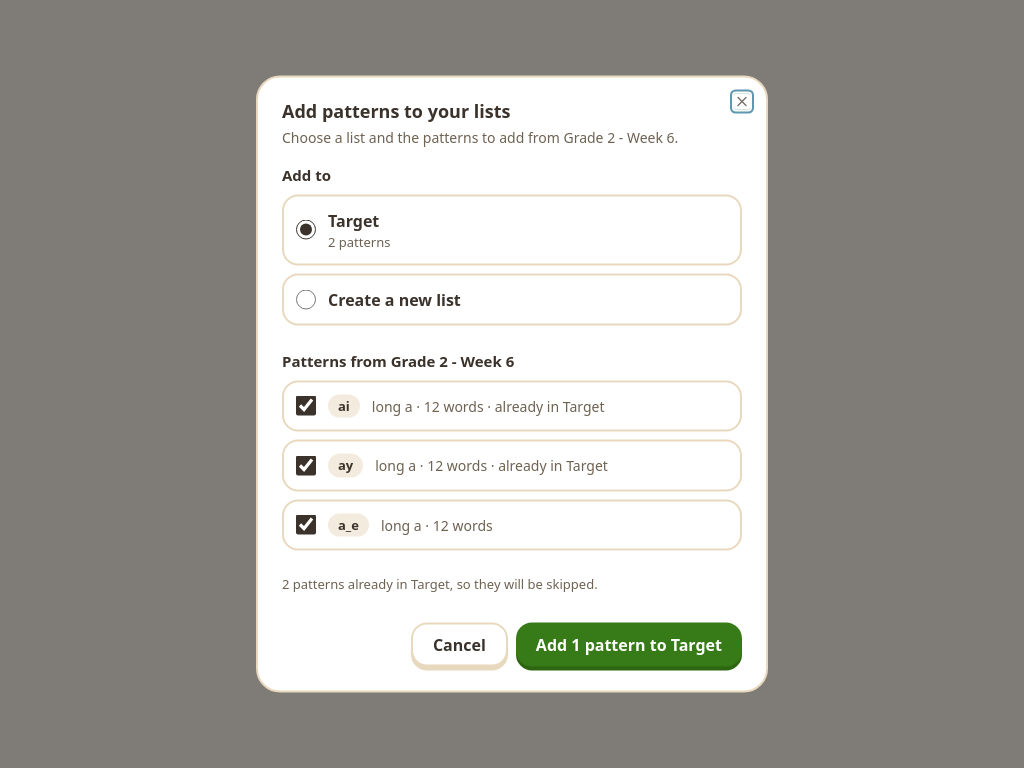
Scenario: PullPatternsModal › names multiple duplicates and skipped patterns with plurals
Expected: the text "Target" is shown, [328, 209, 379, 231]
Expected: the message shows "2 patterns already in Target, so they will be skipped", [282, 574, 598, 592]
Click the button "Add 1 pattern to Target" at (629, 644), box [516, 622, 742, 666]
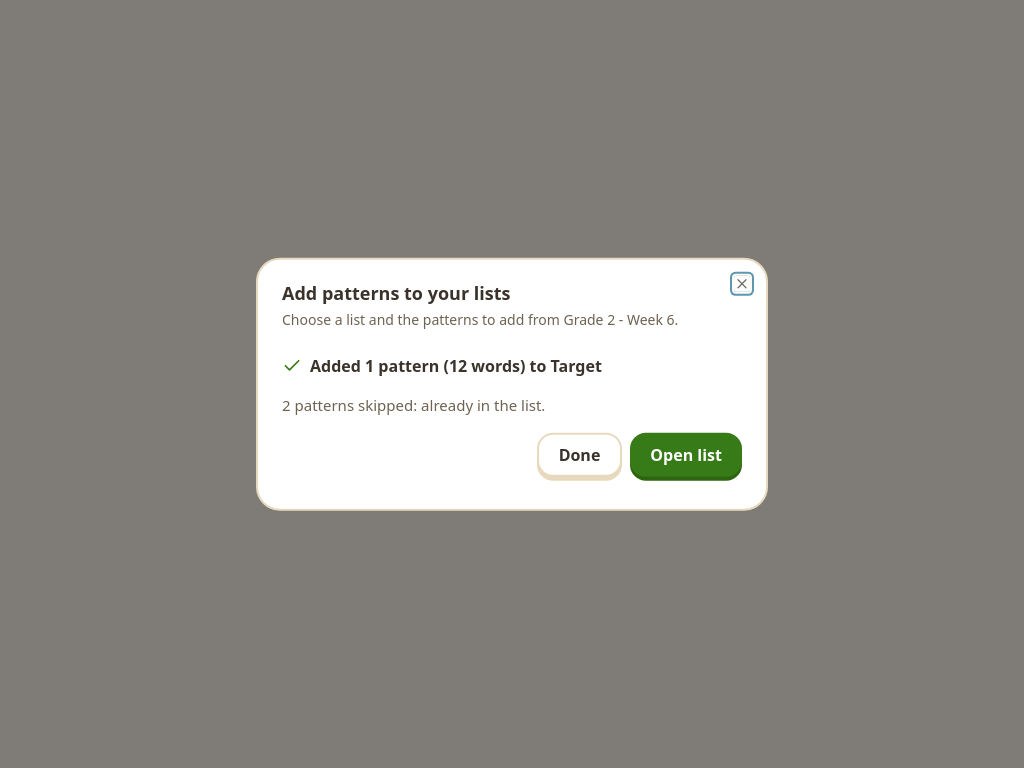
Expected: the message shows "Added", [310, 355, 365, 377]
Expected: the text "2 patterns skipped: already in the list." is shown, [282, 395, 545, 415]
